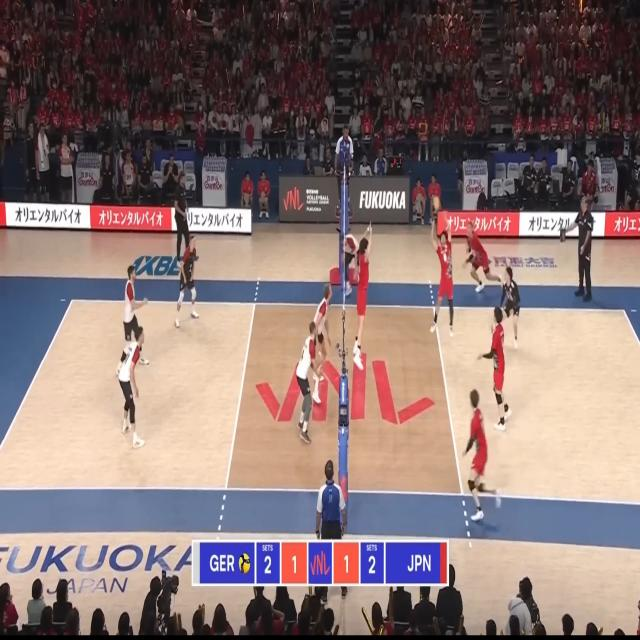ball: (434, 197, 439, 210)
